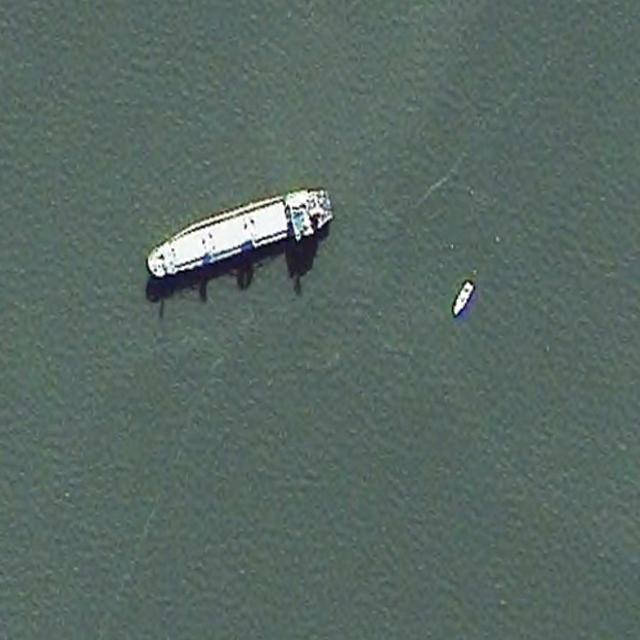Other Ship: (141, 175, 337, 293), (449, 279, 475, 321)
